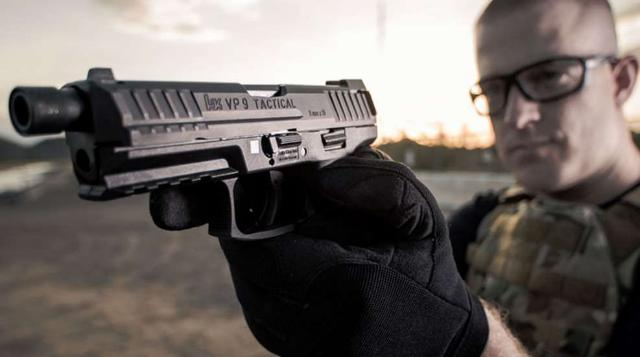handgun: (6, 66, 382, 256)
